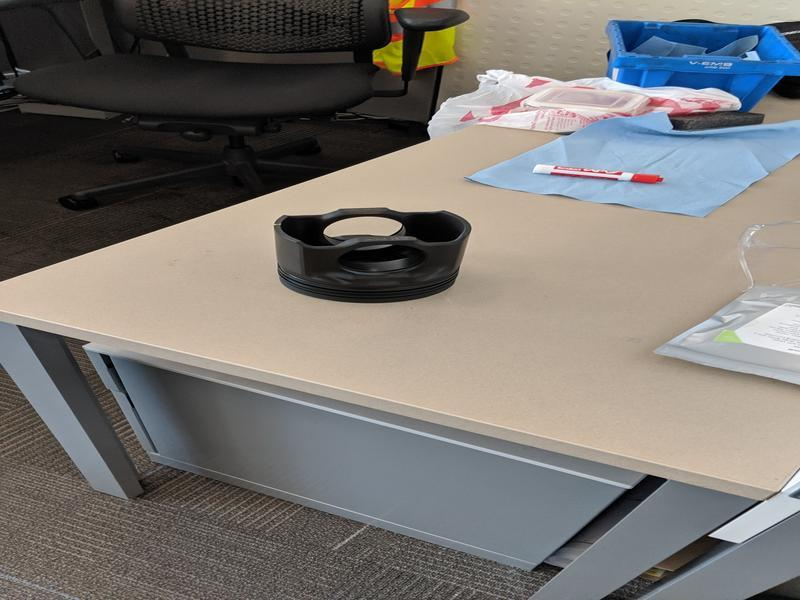piston: (270, 206, 474, 306)
